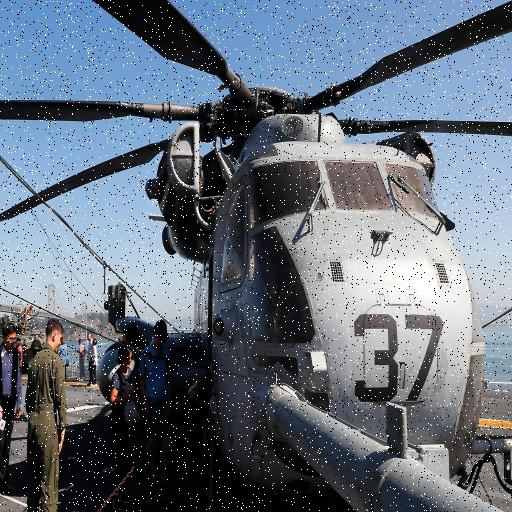helicopter: (1, 6, 501, 512)
